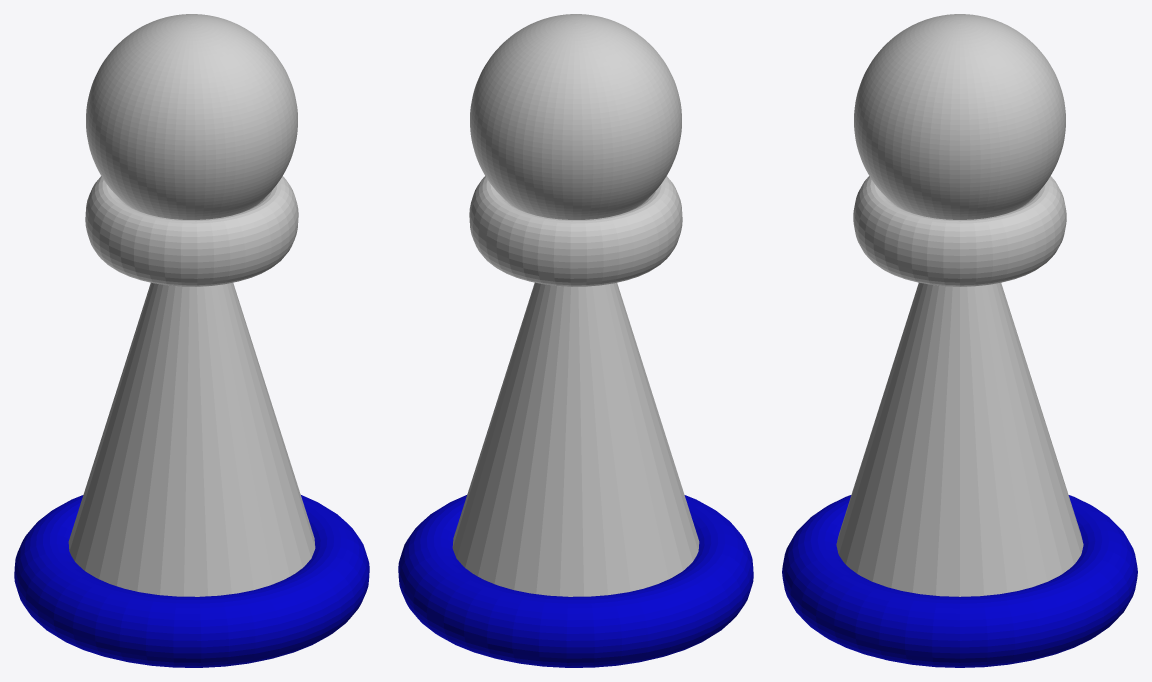
Rendered from WhitePawn.obj.
3 views of the same model, side by side, from view 1: azimuth 30°, elevation 25°; view 2: azimuth 150°, elevation 25°; view 3: azimuth 270°, elevation 25° (orthographic).
Parts seen in each view (by area): view 1: Cone, Sphere, Torus, Torus.001; view 2: Cone, Sphere, Torus, Torus.001; view 3: Cone, Sphere, Torus, Torus.001.
Part boxes in pixels (box(x1,y1,x2,y2)): Cone: box(68, 282, 315, 596); Sphere: box(86, 14, 297, 219); Torus: box(14, 495, 369, 667); Torus.001: box(85, 176, 298, 286); Cone: box(452, 282, 699, 596); Sphere: box(470, 14, 681, 219); Torus: box(398, 495, 753, 667); Torus.001: box(469, 176, 682, 286); Cone: box(836, 282, 1083, 596); Sphere: box(854, 14, 1065, 219); Torus: box(782, 495, 1137, 667); Torus.001: box(853, 176, 1066, 286).
Bounding box in the file's own units: 0.5 × 0.9 × 0.5.
